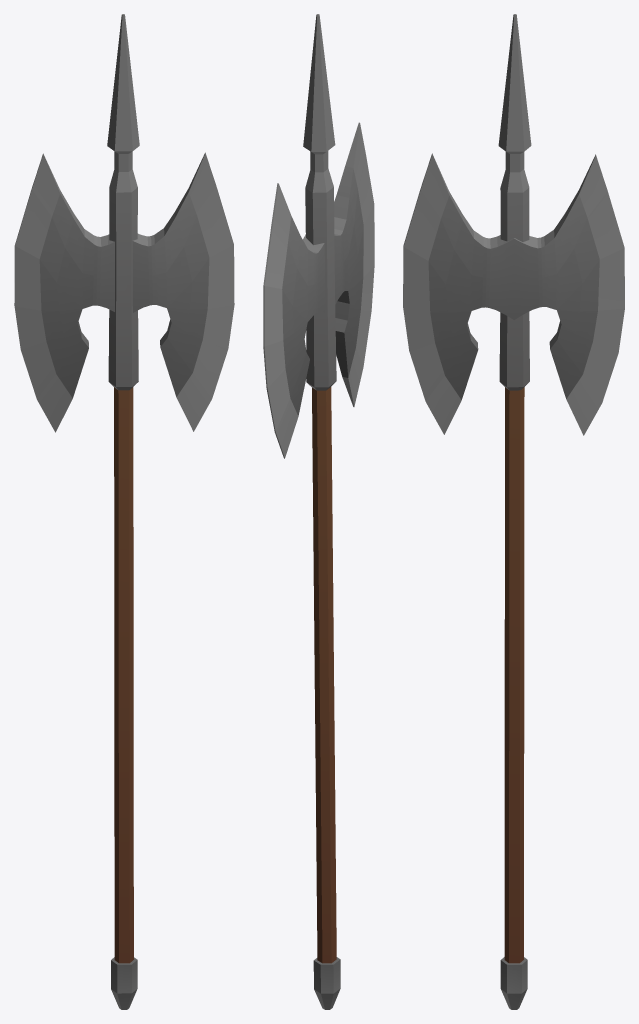
Rendered from obj_lance.fbx.
The picture shows the model from 3 angles, left to right: view 1: azimuth 90°, elevation 25°; view 2: azimuth 150°, elevation 25°; view 3: azimuth 270°, elevation 25°; orthographic projection.
Parts seen in each view (by area): view 1: Cube.059; view 2: Cube.059; view 3: Cube.059.
Part boxes in pixels (x1,y1,x2,y2): Cube.059: (14, 14, 234, 1009); Cube.059: (263, 14, 374, 1009); Cube.059: (403, 14, 624, 1009).
Size of the model in its own units: 60.33 by 1943 by 392.
